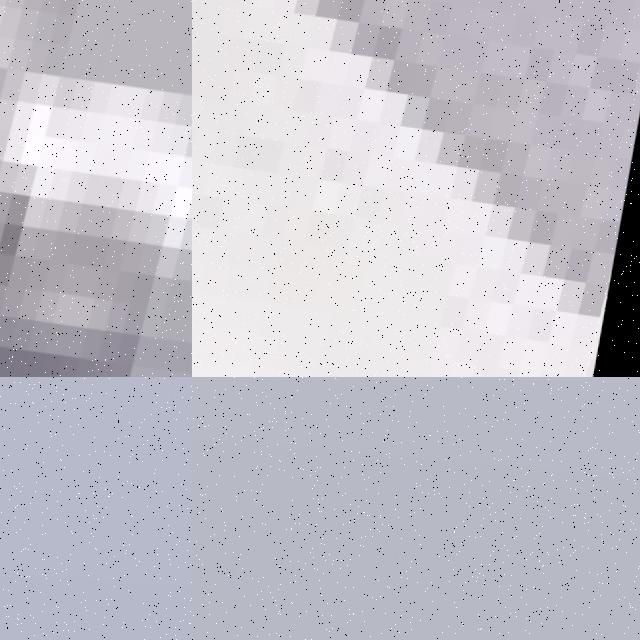drone: (192, 0, 640, 377), (0, 0, 192, 377)
